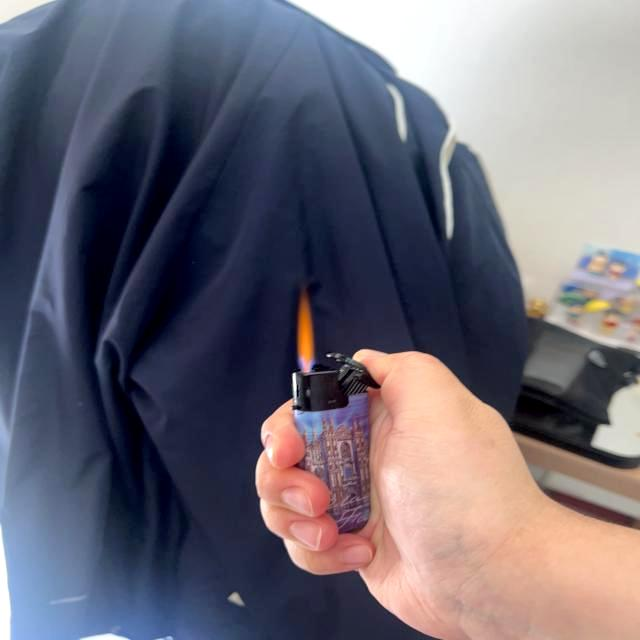fire: (295, 296, 317, 368)
